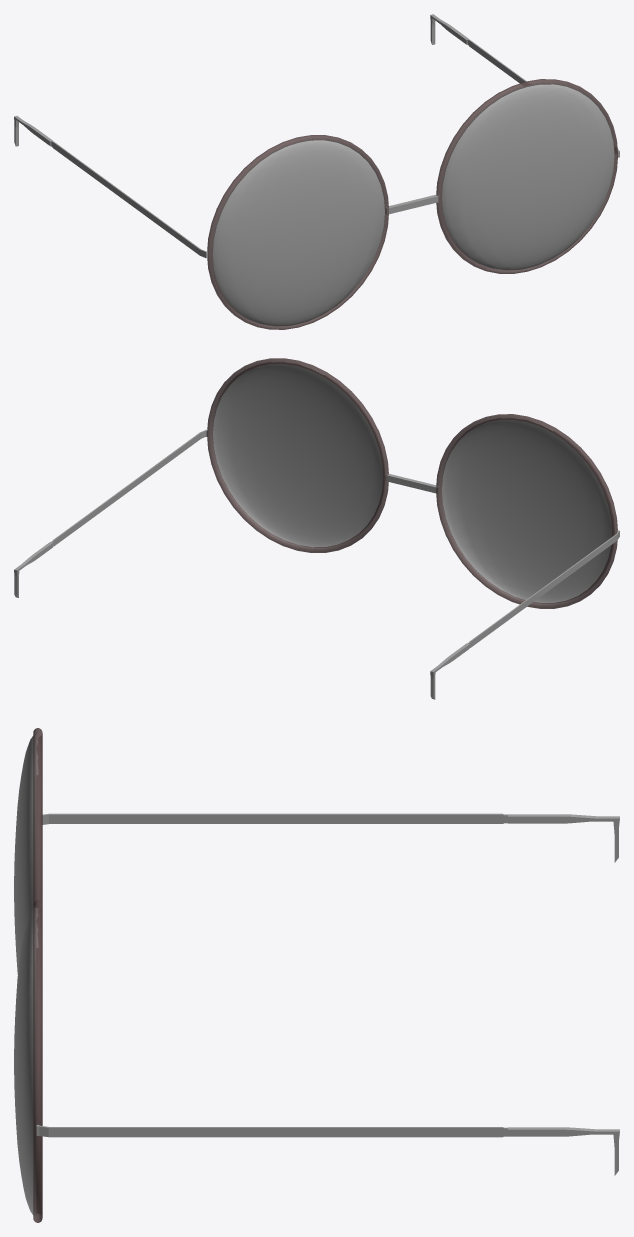
The model's file is Glasses.fbx.
3 views of the same model, one above another, from view 1: azimuth 30°, elevation 25°; view 2: azimuth 150°, elevation 25°; view 3: azimuth 270°, elevation 25° (orthographic). The views are drawn at different scales.
Parts seen in each view (by area): view 1: pSphere1, pTorus1, pCube3, pCube4, pCube5, pCube2; view 2: pSphere1, pTorus1, pCube3, pCube2, pCube4, pCube5; view 3: pSphere1, pCube3, pTorus1, pCube2, pCube4.
Boxes of the visible parts, x1,y1,x2,y2 form: pSphere1: (211,83,614,326); pTorus1: (207,79,617,329); pCube3: (51,39,526,215); pCube4: (14,14,469,146); pCube5: (385,194,439,214); pCube2: (146,209,200,255); pSphere1: (211,362,614,604); pTorus1: (207,358,617,608); pCube3: (51,472,563,647); pCube2: (146,432,617,579); pCube4: (14,542,469,699); pCube5: (385,473,439,493); pSphere1: (14,734,38,1216); pCube3: (216,813,507,1137); pTorus1: (33,728,42,1222); pCube2: (48,813,216,1137); pCube4: (508,814,619,1175).
Size of the model in its own units: 7.86 by 3.4 by 6.38.
